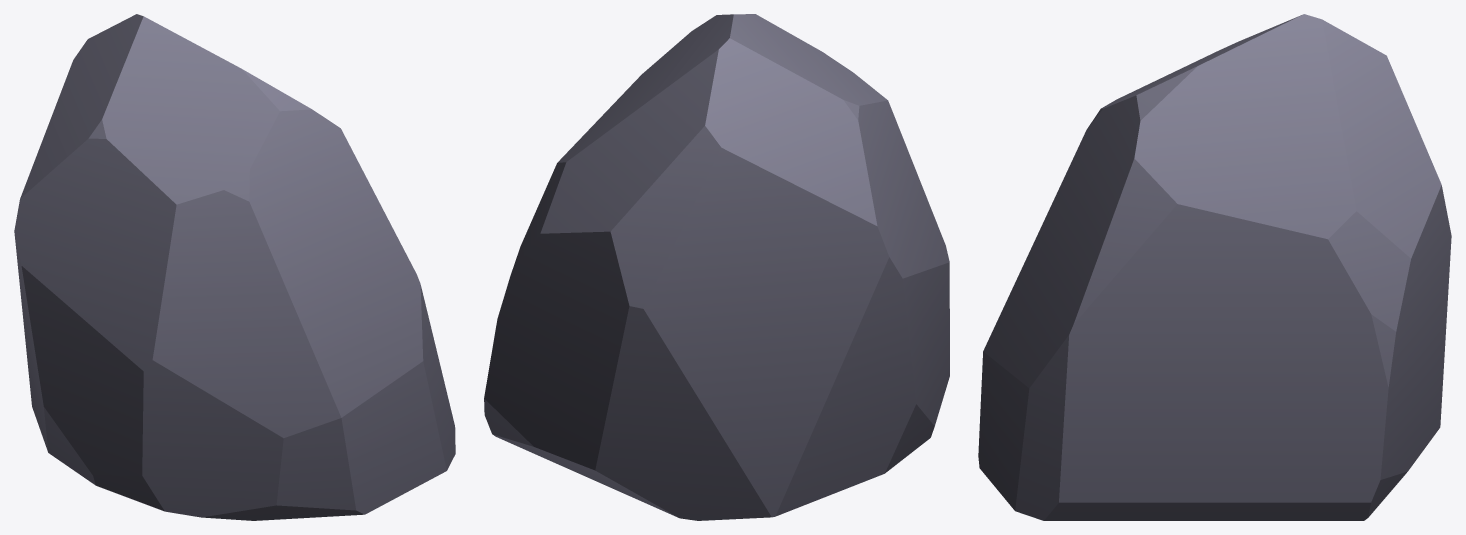
Rendered from Rock_02.fbx.
The picture shows the model from 3 angles, left to right: view 1: azimuth 30°, elevation 25°; view 2: azimuth 150°, elevation 25°; view 3: azimuth 270°, elevation 25°; orthographic projection. The views are drawn at different scales.
Visible parts, largest first — view 1: Rock_02_LOD0; view 2: Rock_02_LOD0; view 3: Rock_02_LOD0.
Part boxes in pixels (x1,y1,x2,y2): Rock_02_LOD0: (14, 14, 455, 520); Rock_02_LOD0: (484, 14, 949, 520); Rock_02_LOD0: (978, 14, 1451, 520).
Size of what is drawn, in the model's own units: 0.5017 by 0.5824 by 0.5856.
